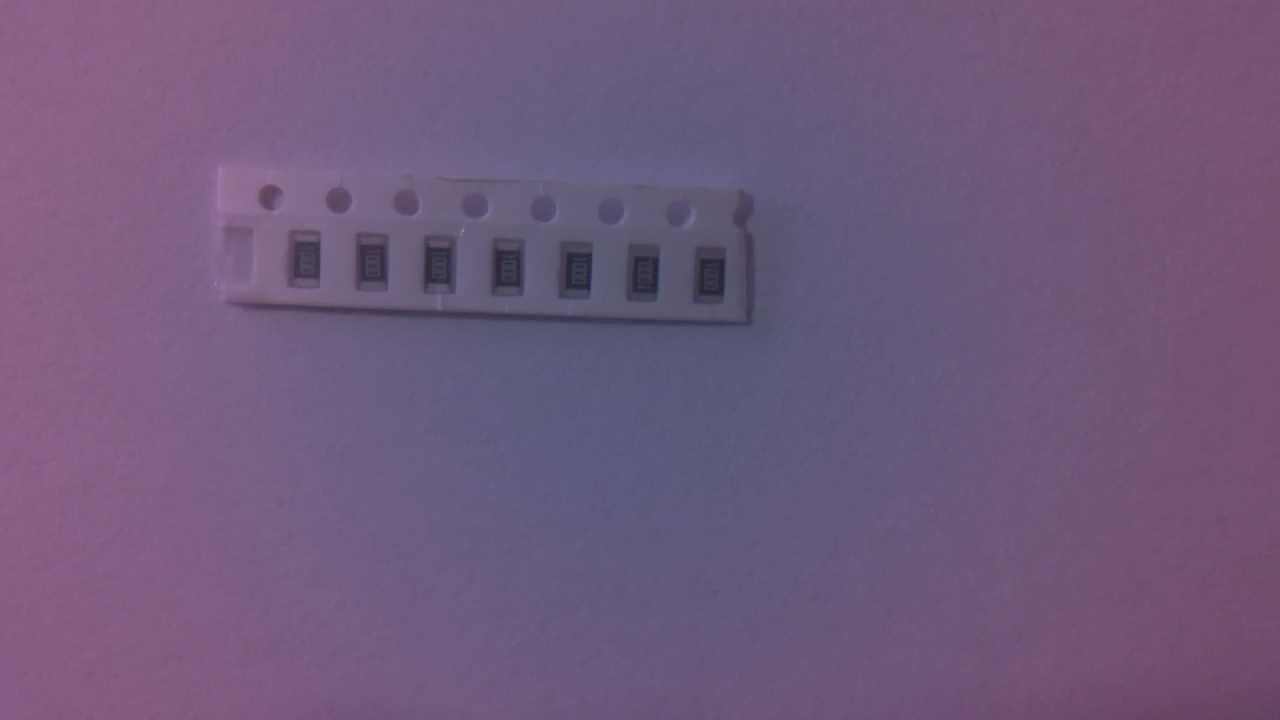Resistor: (497, 241, 532, 304), (359, 237, 395, 298), (427, 239, 463, 298), (630, 250, 666, 306), (565, 242, 597, 304), (294, 235, 326, 296), (697, 254, 731, 311)
